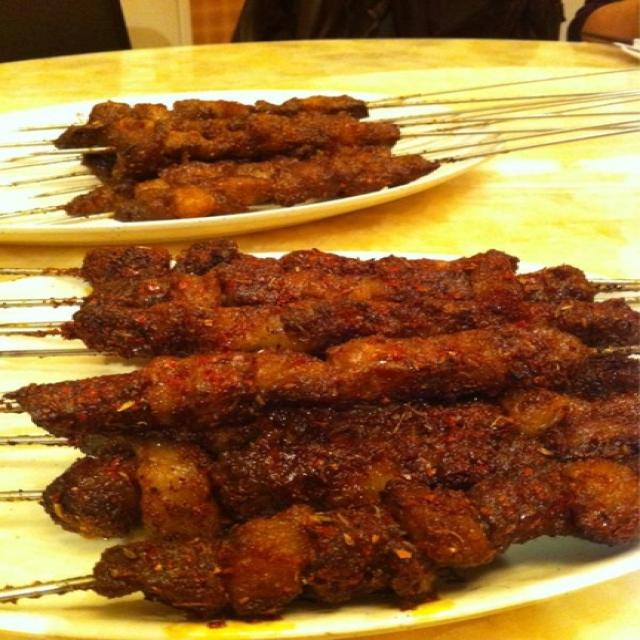烧串烤肉: (32, 63, 636, 616)
